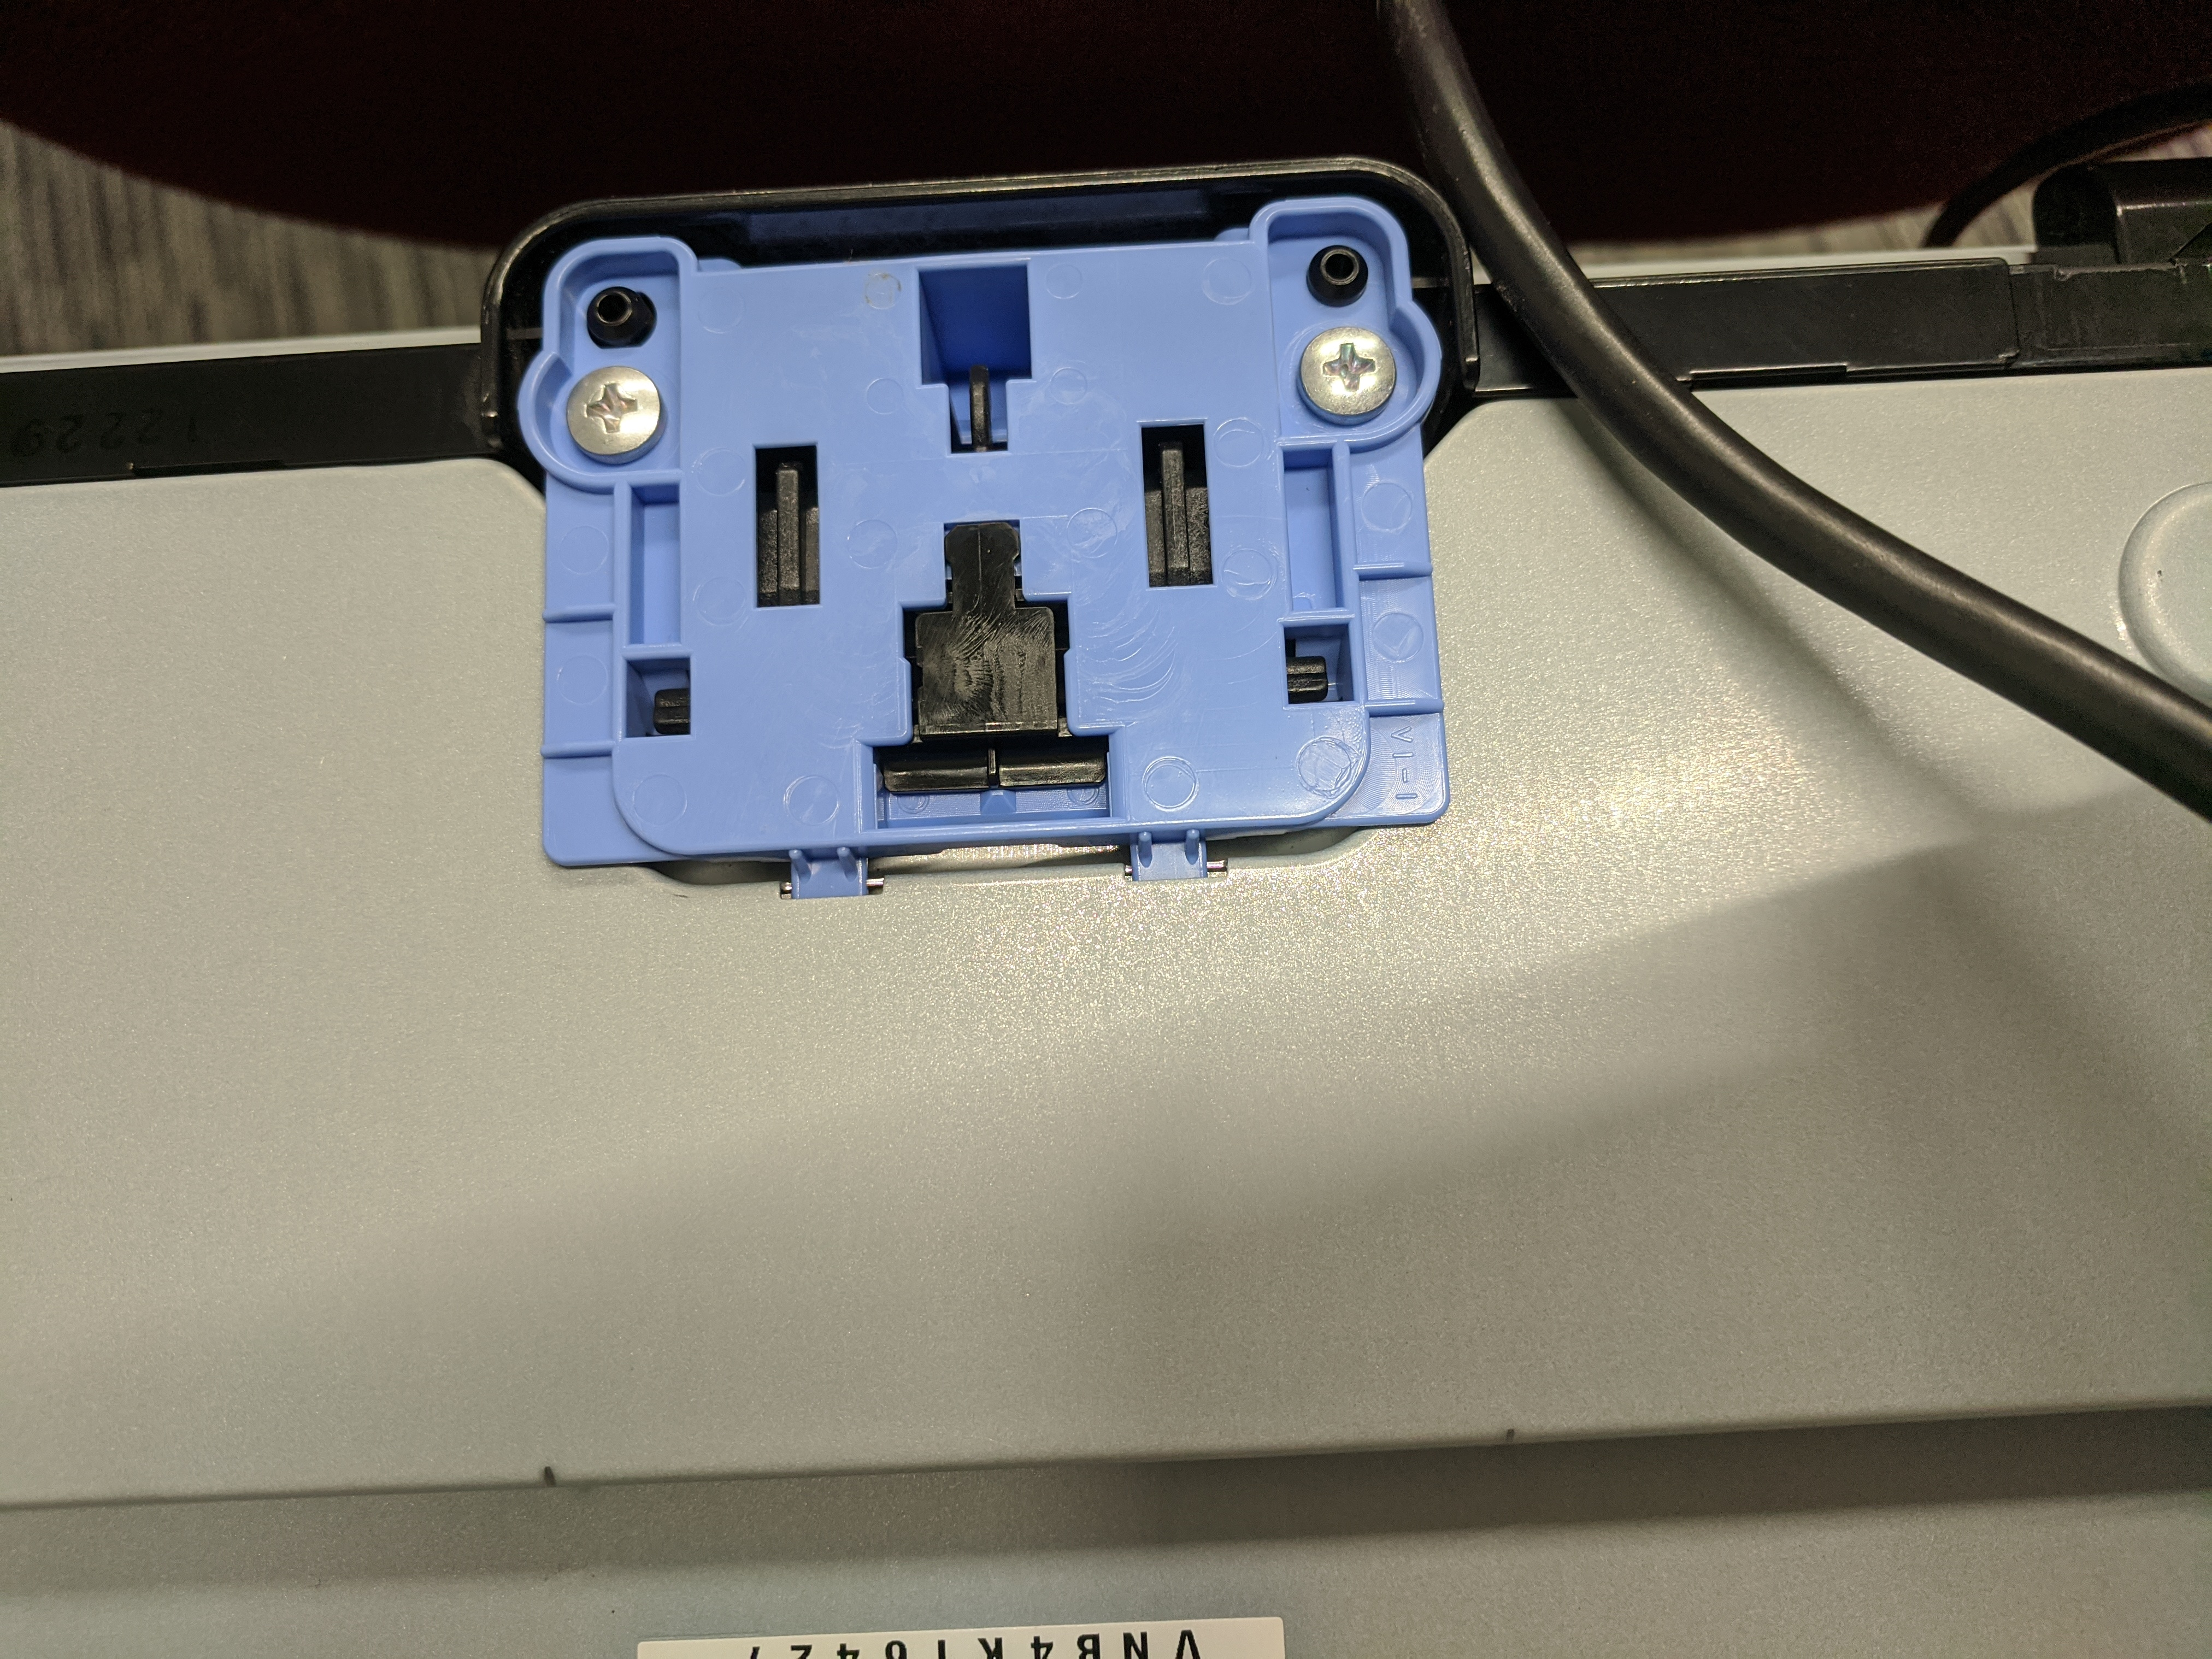cross_recessed_screw: (564, 362, 685, 464), (1306, 329, 1393, 410)
